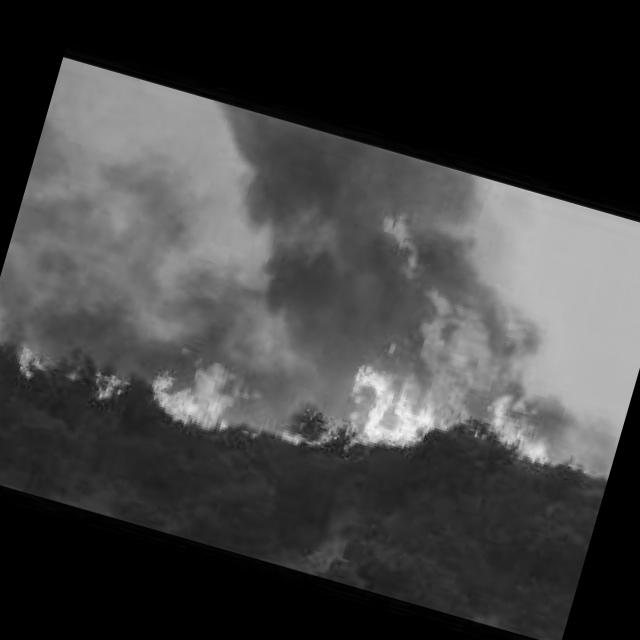fire: (27, 122, 609, 524)
